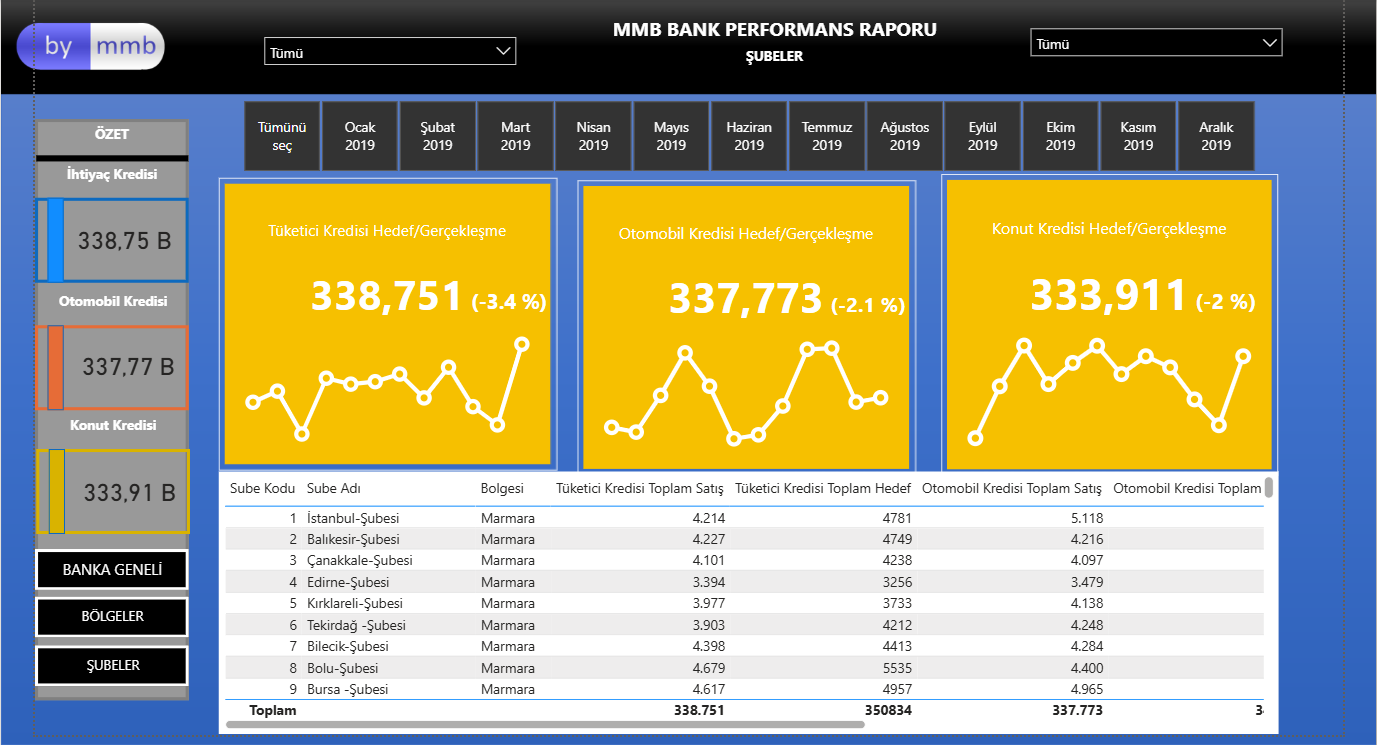

The dashboard page shown, as its layout file describes it:
{"tool":"powerbi","page":{"name":"ŞUBELER","canvas":[1280,720],"ordinal":2},"visuals":[{"type":"textbox","box":[520.9,11,406,46.5],"z":0},{"type":"textbox","box":[604.1,41.6,238.5,30.6],"z":1000},{"type":"shape","box":[0,117.4,150.4,568.6],"z":2000},{"type":"shape","box":[1.2,137,149.2,37.9],"z":3000},{"type":"textbox","box":[0,117.4,150.4,37.9],"z":4000},{"type":"shape","box":[0,194.4,150.4,83.2],"z":5000},{"type":"textbox","box":[0,156.5,150.4,37.9],"z":6000},{"type":"shape","box":[12.2,194.4,15.9,83.2],"z":7000},{"type":"shape","box":[0.2,318.9,150.4,83.2],"z":8000},{"type":"textbox","box":[1.2,281.3,150.4,37.9],"z":9000},{"type":"shape","box":[12.4,318.9,15.9,83.2],"z":10000},{"type":"shape","box":[1.2,440.2,150.4,83.2],"z":11000},{"type":"textbox","box":[1.2,402.3,150.4,37.9],"z":12000},{"type":"shape","box":[13.5,440.2,15.9,83.2],"z":13000},{"type":"shape","box":[0,538,150.4,40.4],"z":14000},{"type":"textbox","box":[17.1,542.9,117.4,35.5],"z":15000},{"type":"shape","box":[0.2,584.2,150.4,40.4],"z":16000},{"type":"textbox","box":[34.2,589.4,83.2,35.5],"z":17000},{"type":"shape","box":[0.2,632.2,150.4,40.4],"z":18000},{"type":"textbox","box":[34.2,637.1,84.4,35.5],"z":19000},{"type":"card","fields":{"Values":["OLCULER.Tüketici Kredisi Toplam Satış"]},"box":[24.5,194.4,127.2,81.9],"z":20000},{"type":"card","fields":{"Values":["OLCULER.Otomobil Kredisi Toplam Satış"]},"box":[28.1,317.9,127.2,81.9],"z":21000},{"type":"card","fields":{"Values":["OLCULER.Konut Kredisi Toplam Satış"]},"box":[29.3,441.4,127.2,81.9],"z":22000},{"type":"slicer","fields":{"Values":["sube_listesi.Bolgesi"]},"box":[214,26.9,266.6,45.2],"z":23000},{"type":"slicer","fields":{"Values":["sube_listesi.Sube Adı"]},"box":[964.2,18.4,266.9,45.5],"z":24000},{"type":"slicer","fields":{"Values":["KREDILER.Ay"]},"box":[178.5,92.9,1038.2,81.9],"z":25000},{"type":"KPIStatusWithHistory1446562283967","fields":{"Values":["OLCULER.Tüketici Kredisi Toplam Satış"],"Targets":["OLCULER.Tüketici Kredisi Toplam Hedef"],"Category":["KREDILER.Ay"]},"box":[179.6,174.6,330.8,286.5],"z":26000},{"type":"KPIStatusWithHistory1446562283967","fields":{"Values":["OLCULER.Otomobil Kredisi Toplam Satış"],"Targets":["OLCULER.Otomobil Kredisi Toplam Hedef"],"Category":["KREDILER.Ay"]},"box":[531.3,177.1,330.8,289],"z":27000},{"type":"KPIStatusWithHistory1446562283967","fields":{"Values":["OLCULER.Konut Kredisi Toplam Satış"],"Targets":["OLCULER.Konut Kredisi Toplam Hedef"],"Category":["KREDILER.Ay"]},"box":[886.7,170.9,329.6,295.2],"z":28000},{"type":"tableEx","fields":{"Values":["sube_listesi.Sube Kodu","sube_listesi.Sube Adı","sube_listesi.Bolgesi","OLCULER.Tüketici Kredisi Toplam Satış","OLCULER.Tüketici Kredisi Toplam Hedef","OLCULER.Otomobil Kredisi Toplam Satış","OLCULER.Otomobil Kredisi Toplam Hedef","OLCULER.Konut Kredisi Toplam Satış","OLCULER.Konut Kredisi Toplam Hedef","OLCULER.Toplam Kredi Satışı","OLCULER.Toplam Kredi Hedefi"]},"box":[179.6,462.4,1036.7,257],"z":29000}]}

Visuals, with their boxes in screenshot pixels (x1, y1, x2, y2):
textbox: box(561, 8, 976, 55)
textbox: box(646, 39, 890, 70)
shape: box(29, 116, 182, 697)
shape: box(30, 136, 182, 175)
textbox: box(29, 116, 182, 155)
shape: box(29, 195, 182, 280)
textbox: box(29, 156, 182, 195)
shape: box(41, 195, 57, 280)
shape: box(29, 322, 183, 407)
textbox: box(30, 284, 184, 323)
shape: box(41, 322, 58, 407)
shape: box(30, 446, 184, 531)
textbox: box(30, 407, 184, 446)
shape: box(42, 446, 59, 531)
shape: box(29, 546, 182, 587)
textbox: box(46, 551, 166, 587)
shape: box(29, 593, 183, 635)
textbox: box(64, 599, 149, 635)
shape: box(29, 642, 183, 684)
textbox: box(64, 647, 150, 684)
card - OLCULER.Tüketici Kredisi Toplam Satış: box(54, 195, 184, 279)
card - OLCULER.Otomobil Kredisi Toplam Satış: box(57, 321, 187, 405)
card - OLCULER.Konut Kredisi Toplam Satış: box(59, 447, 189, 531)
slicer - sube_listesi.Bolgesi: box(247, 24, 520, 70)
slicer - sube_listesi.Sube Adı: box(1014, 15, 1286, 62)
slicer - KREDILER.Ay: box(211, 91, 1272, 175)
KPIStatusWithHistory1446562283967 - OLCULER.Tüketici Kredisi Toplam Satış x OLCULER.Tüketici Kredisi Toplam Hedef: box(212, 175, 550, 467)
KPIStatusWithHistory1446562283967 - OLCULER.Otomobil Kredisi Toplam Satış x OLCULER.Otomobil Kredisi Toplam Hedef: box(571, 177, 909, 473)
KPIStatusWithHistory1446562283967 - OLCULER.Konut Kredisi Toplam Satış x OLCULER.Konut Kredisi Toplam Hedef: box(935, 171, 1271, 473)
tableEx - sube_listesi.Sube Kodu x sube_listesi.Sube Adı: box(212, 469, 1271, 731)
